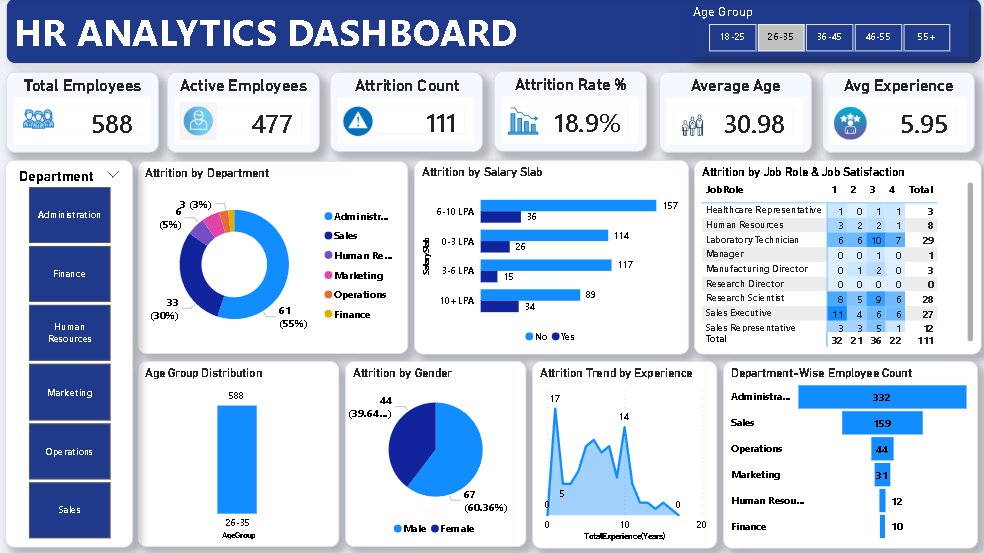

The dashboard page shown, as its layout file describes it:
{"tool":"powerbi","page":{"name":"Page 1","canvas":[1280,720],"ordinal":0},"visuals":[{"type":"textbox","box":[10,0,1259,85],"z":0},{"type":"cardVisual","title":"Total Employees","fields":{"Data":["CountNonNull(HR_Analytics-4.EmpID)"]},"box":[10,95,197,104],"z":1000},{"type":"cardVisual","title":"Active Employees","fields":{"Data":["CountNonNull(HR_Analytics-4.EmployeeCount)"]},"box":[218.3,95.4,196.6,104.1],"z":2000},{"type":"cardVisual","title":"Attrition Count","fields":{"Data":["Sum(HR_Analytics-4.Attrition_Count)"]},"box":[428,95.4,196.6,102.7],"z":3000},{"type":"cardVisual","title":"Avg Experience","fields":{"Data":["Avg(HR_Analytics-4.YearsatCompany)"]},"box":[1062.7,95.4,196.6,104.1],"z":4000},{"type":"cardVisual","title":"Average Age","fields":{"Data":["Avg(HR_Analytics-4.Age)"]},"box":[853,95.4,196.6,104.1],"z":5000},{"type":"cardVisual","title":"Attrition Rate %","fields":{"Data":["HR_Analytics-4.Attrition Rate %"]},"box":[640.5,94,196.6,104.1],"z":6000},{"type":"image","box":[32.3,134.2,40,43.9],"z":7000},{"type":"image","box":[1075.1,141.1,50.4,42],"z":8000},{"type":"image","box":[658.1,139.4,38.7,38.7],"z":9000},{"type":"image","box":[440.1,139.4,48.7,38.6],"z":10000},{"type":"image","box":[861.9,129,68.4,69.7],"z":11000},{"type":"image","box":[231.3,134.5,54.9,49.2],"z":12000},{"type":"donutChart","title":"Attrition by Department","fields":{"Category":["HR_Analytics-4.Department"],"Y":["Sum(HR_Analytics-4.Attrition_Count)"]},"box":[179,210,350,249],"z":13000},{"type":"clusteredBarChart","title":"Attrition by Salary Slab","fields":{"Category":["HR_Analytics-4.SalarySlab"],"Y":["CountNonNull(HR_Analytics-4.EmpID)"],"Series":["HR_Analytics-4.Attrition"]},"box":[537,209,355,251],"z":14000},{"type":"pivotTable","title":"Attrition by Job Role & Job Satisfaction","fields":{"Rows":["HR_Analytics-4.JobRole"],"Values":["Sum(HR_Analytics-4.Attrition_Count)"],"Columns":["HR_Analytics-4.JobSatisfaction"]},"box":[898,209,371,251],"z":15000},{"type":"columnChart","title":"Age Group Distribution","fields":{"Category":["HR_Analytics-4.AgeGroup"],"Y":["Sum(HR_Analytics-4.EmployeeCount)"]},"box":[179,469,261,240],"z":16000},{"type":"pieChart","title":"Attrition by Gender","fields":{"Category":["HR_Analytics-4.Gender"],"Y":["Sum(HR_Analytics-4.Attrition_Count)"]},"box":[448,469,234,240],"z":17000},{"type":"areaChart","title":"Attrition Trend by Experience","fields":{"Category":["HR_Analytics-4.TotalExperience(Years)"],"Y2":["Sum(HR_Analytics-4.Attrition_Count)"]},"box":[689,469,239,242],"z":18000},{"type":"funnel","title":"Department-Wise Employee Count","fields":{"Category":["HR_Analytics-4.Department"],"Y":["CountNonNull(HR_Analytics-4.EmpID)"]},"box":[935.6,468.7,329.2,241.9],"z":19000},{"type":"slicer","fields":{"Values":["HR_Analytics-4.Department"]},"box":[9,209,165,500],"z":20000},{"type":"slicer","title":"Age Group","fields":{"Values":["HR_Analytics-4.AgeGroup"]},"box":[892,7.2,361.4,68],"z":21000}]}

Visuals, with their boxes in screenshot pixels (x1, y1, x2, y2), scaled from the page's 1280x720 canvas onto the 984x553 screenshot:
textbox: [8, 0, 976, 65]
"Total Employees" cardVisual: [8, 73, 159, 153]
"Active Employees" cardVisual: [168, 73, 319, 153]
"Attrition Count" cardVisual: [329, 73, 480, 152]
"Avg Experience" cardVisual: [817, 73, 968, 153]
"Average Age" cardVisual: [656, 73, 807, 153]
"Attrition Rate %" cardVisual: [492, 72, 644, 152]
image: [25, 103, 56, 137]
image: [826, 108, 865, 141]
image: [506, 107, 536, 137]
image: [338, 107, 376, 137]
image: [663, 99, 715, 153]
image: [178, 103, 220, 141]
"Attrition by Department" donutChart: [138, 161, 407, 353]
"Attrition by Salary Slab" clusteredBarChart: [413, 161, 686, 353]
"Attrition by Job Role & Job Satisfaction" pivotTable: [690, 161, 976, 353]
"Age Group Distribution" columnChart: [138, 360, 338, 545]
"Attrition by Gender" pieChart: [344, 360, 524, 545]
"Attrition Trend by Experience" areaChart: [530, 360, 713, 546]
"Department-Wise Employee Count" funnel: [719, 360, 972, 546]
slicer - HR_Analytics-4.Department: [7, 161, 134, 545]
"Age Group" slicer: [686, 6, 964, 58]
